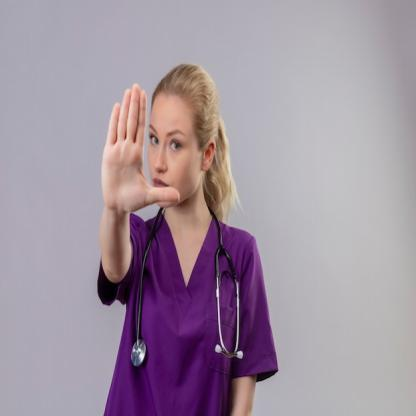stop: (101, 78, 182, 223)
